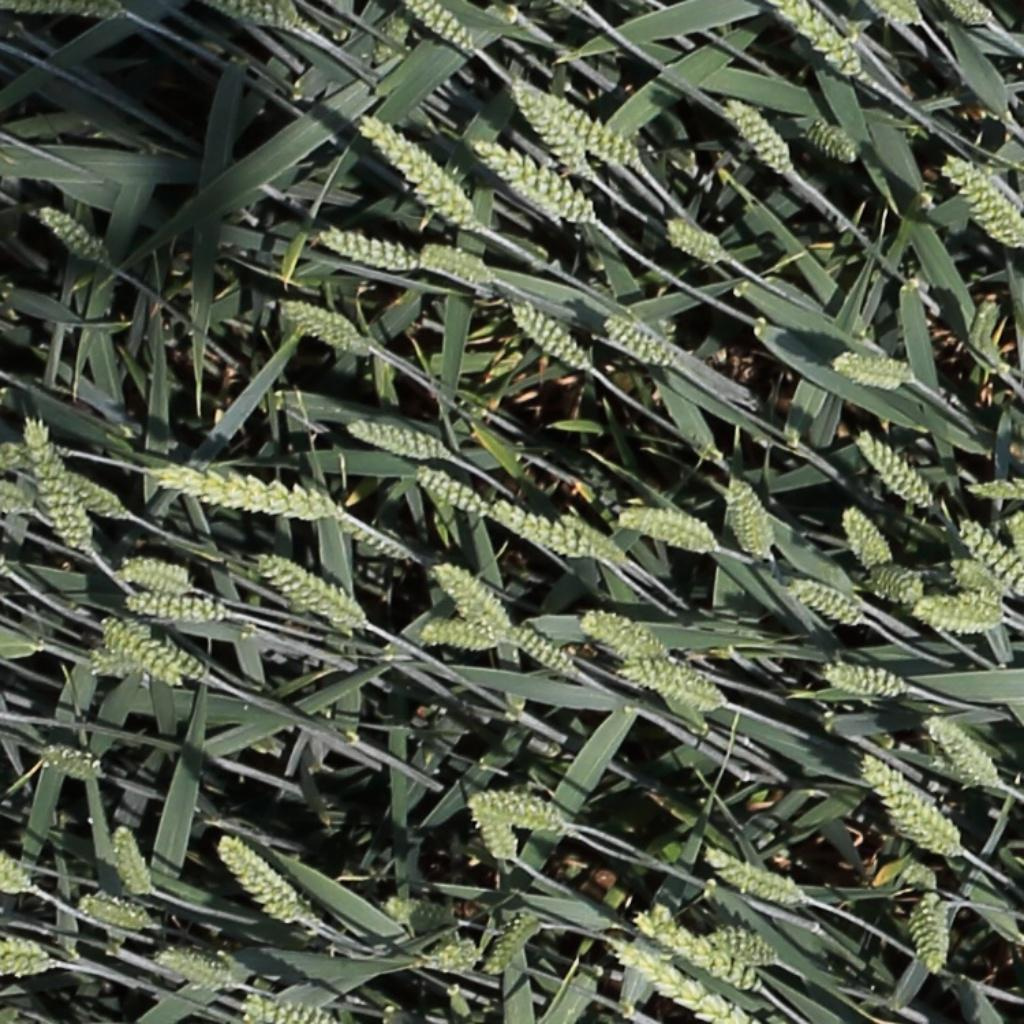0-0: (356, 114, 484, 237), (610, 942, 761, 1024), (147, 463, 352, 522), (858, 753, 964, 862), (636, 907, 767, 992), (474, 141, 600, 228), (24, 419, 96, 555), (507, 81, 599, 185), (765, 3, 875, 88), (257, 555, 373, 632), (216, 836, 314, 927), (544, 94, 646, 172), (941, 155, 1024, 248), (856, 431, 942, 513), (430, 563, 518, 642), (704, 845, 811, 909), (493, 500, 595, 563), (922, 716, 1004, 789), (280, 297, 375, 359), (511, 303, 595, 372), (102, 607, 197, 668), (375, 881, 463, 945), (618, 660, 730, 710), (80, 644, 193, 692), (959, 517, 1024, 598), (724, 100, 794, 175), (315, 226, 426, 273), (126, 587, 234, 634), (619, 506, 722, 555), (581, 608, 676, 661), (35, 203, 111, 268), (725, 475, 779, 565), (472, 788, 572, 836), (903, 891, 954, 984), (243, 978, 344, 1024), (417, 466, 498, 522), (347, 420, 449, 461), (789, 575, 868, 626), (1, 3, 139, 32), (605, 319, 683, 370), (482, 914, 545, 977), (509, 626, 583, 679), (154, 946, 239, 991), (467, 796, 522, 862), (916, 595, 1011, 633), (559, 511, 631, 561), (67, 464, 129, 522), (404, 0, 473, 51), (421, 243, 500, 287), (840, 507, 894, 571), (665, 217, 729, 271), (110, 825, 159, 895), (832, 352, 920, 390), (824, 661, 913, 698), (707, 926, 785, 967), (945, 558, 1008, 608), (34, 742, 106, 785), (340, 518, 410, 559), (420, 617, 504, 651), (79, 894, 158, 930), (208, 0, 300, 30), (122, 556, 194, 594), (867, 563, 929, 607), (808, 120, 862, 166), (961, 474, 1024, 509), (0, 938, 56, 977), (423, 938, 483, 974), (0, 438, 72, 468), (0, 850, 42, 896), (0, 477, 36, 519), (877, 0, 922, 27), (948, 0, 992, 24), (1004, 512, 1024, 559)
